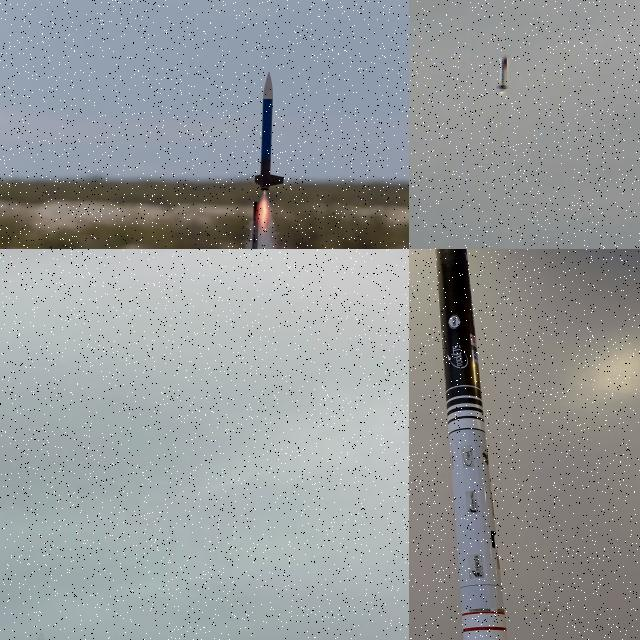Rocket: (435, 249, 508, 640), (254, 71, 285, 192), (496, 54, 510, 90)
